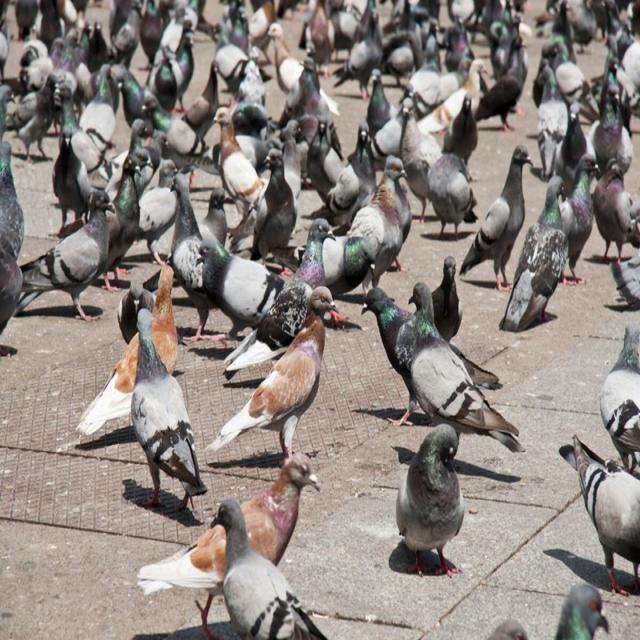bird: (234, 285, 347, 467), (212, 490, 321, 640), (395, 422, 474, 578), (37, 188, 120, 326), (511, 174, 571, 344), (245, 446, 333, 560), (472, 135, 533, 298), (408, 275, 470, 433), (198, 234, 277, 338), (365, 285, 414, 427), (328, 120, 378, 223), (171, 171, 204, 313), (562, 153, 600, 274), (369, 154, 412, 258), (112, 152, 151, 266), (424, 250, 473, 330), (209, 98, 249, 195), (56, 118, 93, 216), (360, 70, 391, 136)
